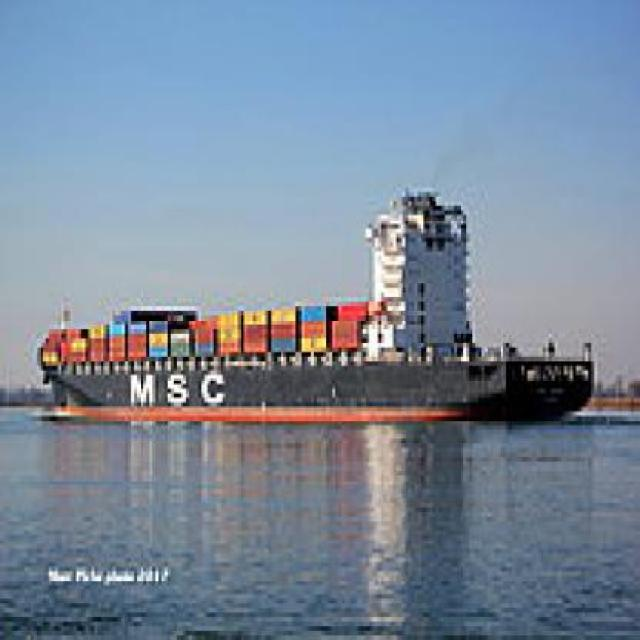container: (31, 166, 602, 449)
